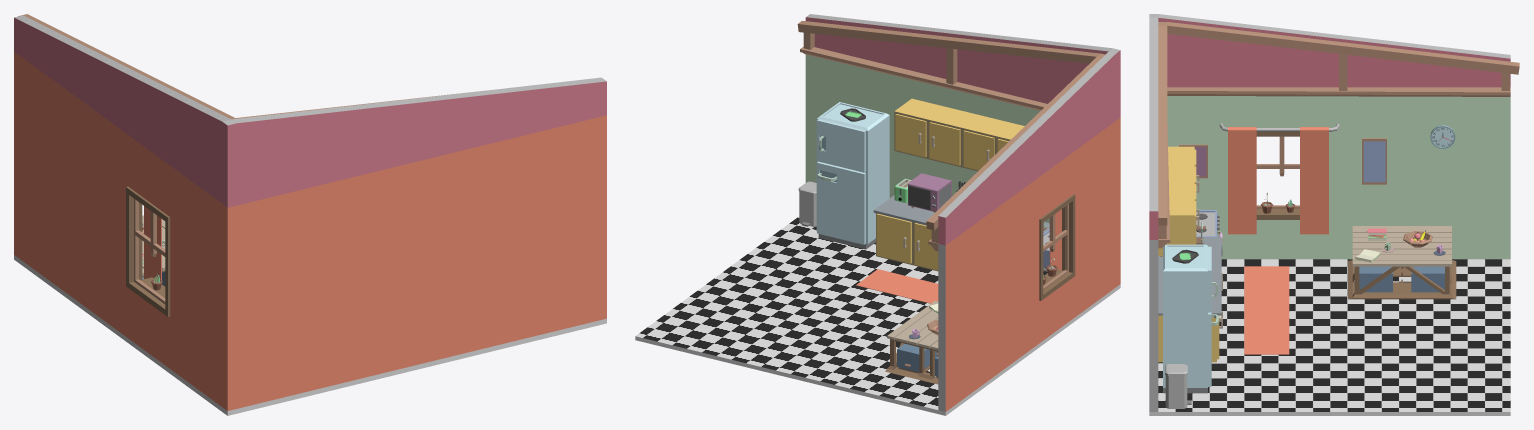
File: LowPolyKitchen.fbx
3 renders of one model, left to right at view 1: azimuth 30°, elevation 25°; view 2: azimuth 150°, elevation 25°; view 3: azimuth 270°, elevation 25°, orthographic. The views are drawn at different scales.
Parts seen in each view (by area): view 1: Wall, Winow, Floor; view 2: Wall, Floor, Sink, Refrigerator, Table, Winow, Plane, Oven, TrashCan; view 3: Wall, Floor, Winow, Table, Refrigerator, Sink, Plane, Painting, TrashCan, GasRange, Circle.001, Books (+1 smaller).
Part boxes in pixels (x1,y1,x2,y2): Wall: [14, 14, 606, 410]; Winow: [126, 186, 170, 316]; Floor: [14, 255, 606, 415]; Wall: [797, 14, 1120, 411]; Floor: [635, 216, 1120, 415]; Sink: [873, 98, 1049, 271]; Refrigerator: [816, 102, 889, 249]; Table: [885, 300, 938, 384]; Winow: [1039, 194, 1075, 300]; Plane: [856, 269, 938, 303]; Oven: [908, 173, 951, 212]; TrashCan: [798, 181, 816, 226]; Wall: [1149, 14, 1519, 411]; Floor: [1149, 259, 1510, 415]; Winow: [1219, 123, 1339, 234]; Table: [1348, 226, 1456, 299]; Refrigerator: [1163, 244, 1218, 393]; Sink: [1158, 146, 1222, 362]; Plane: [1244, 266, 1289, 354]; Painting: [1179, 138, 1386, 184]; TrashCan: [1165, 364, 1191, 408]; GasRange: [1196, 210, 1222, 255]; Circle.001: [1430, 125, 1455, 148]; Books: [1355, 228, 1386, 262].
Bounding box in the file's own units: 835 × 600 × 820.
